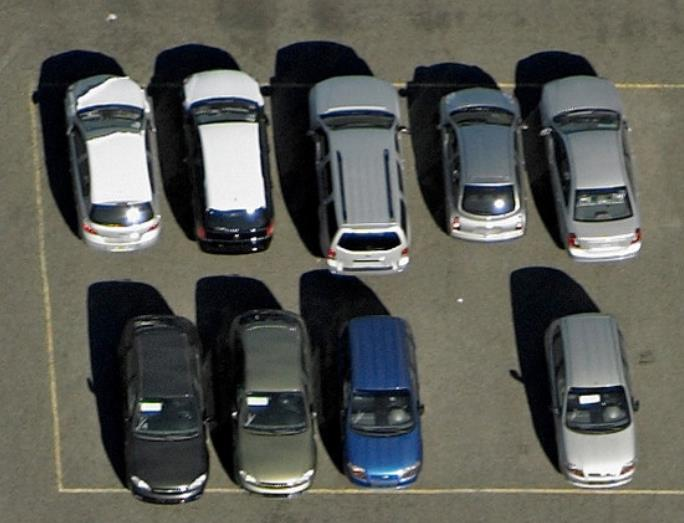car: (303, 75, 414, 281), (534, 71, 644, 263), (112, 314, 216, 507), (175, 65, 278, 257), (219, 306, 318, 498), (539, 309, 639, 489), (65, 75, 163, 252), (329, 313, 427, 489), (433, 87, 533, 247)
